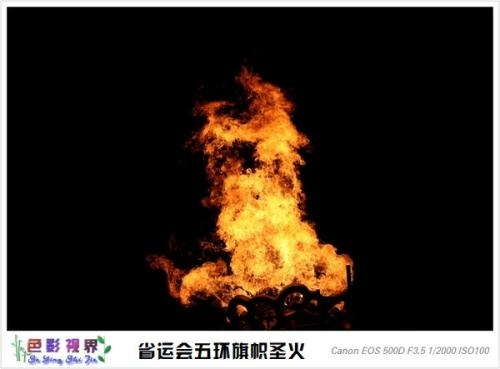fire: (170, 55, 355, 310)
